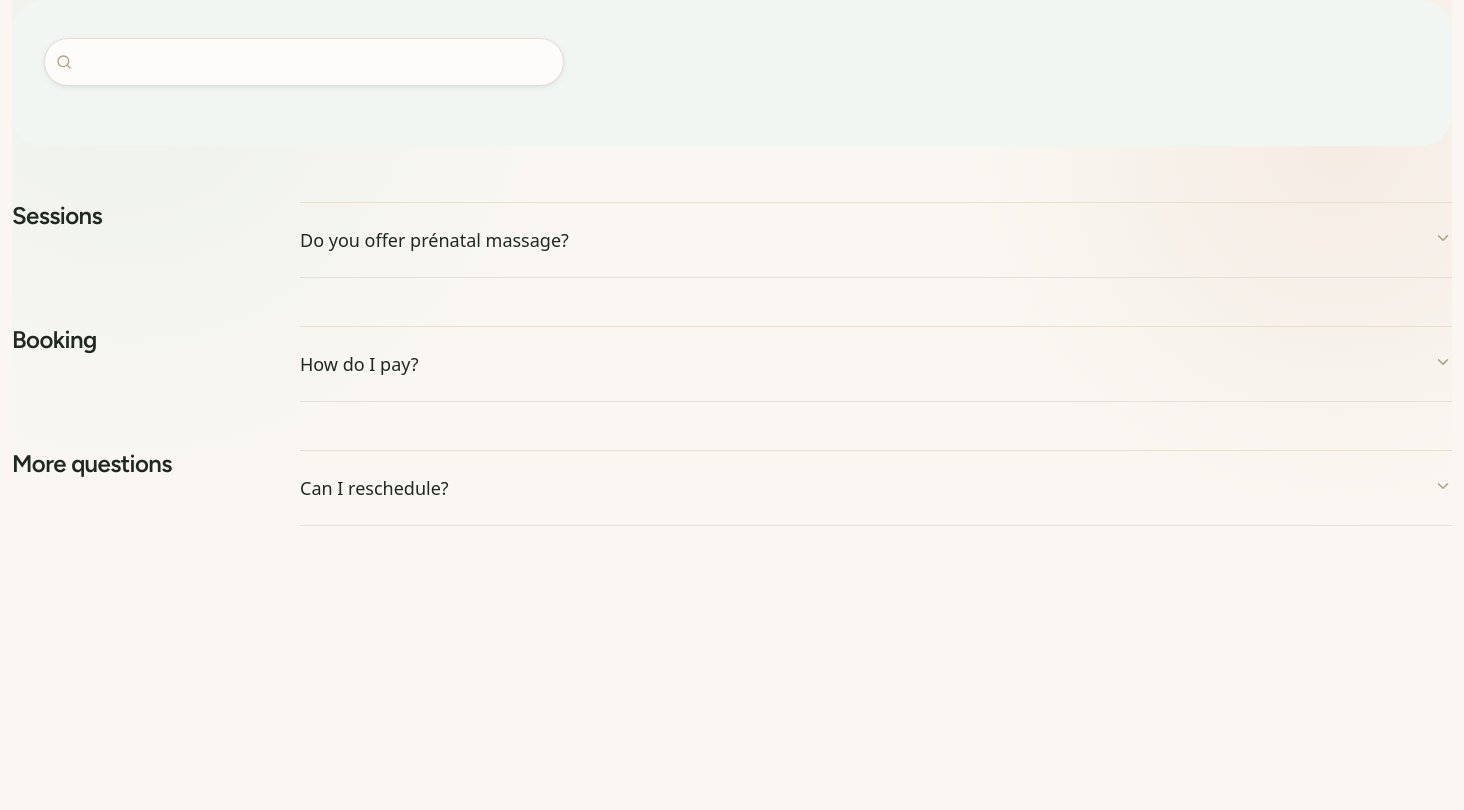
Test: FAQSearch › opens one answer at a time
What coordinates should you click on to do the following:
click the button "How do I pay?"
I would click on:
 (359, 364)
Its box is [300,327,1452,401].
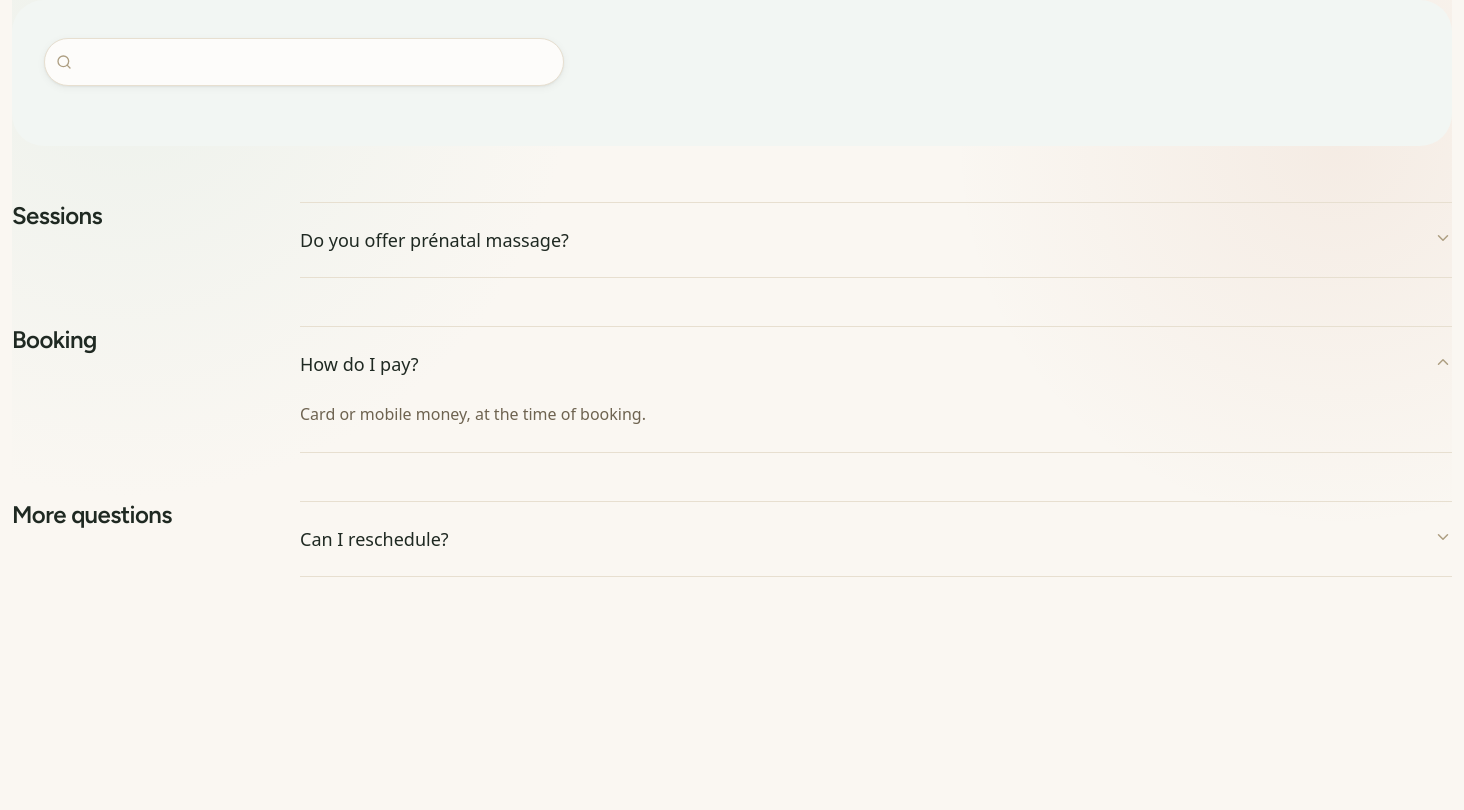
What coordinates should you click on to do the following:
click the button "Can I reschedule?"
I would click on:
 (374, 539)
Its box is [300,502,1452,576].
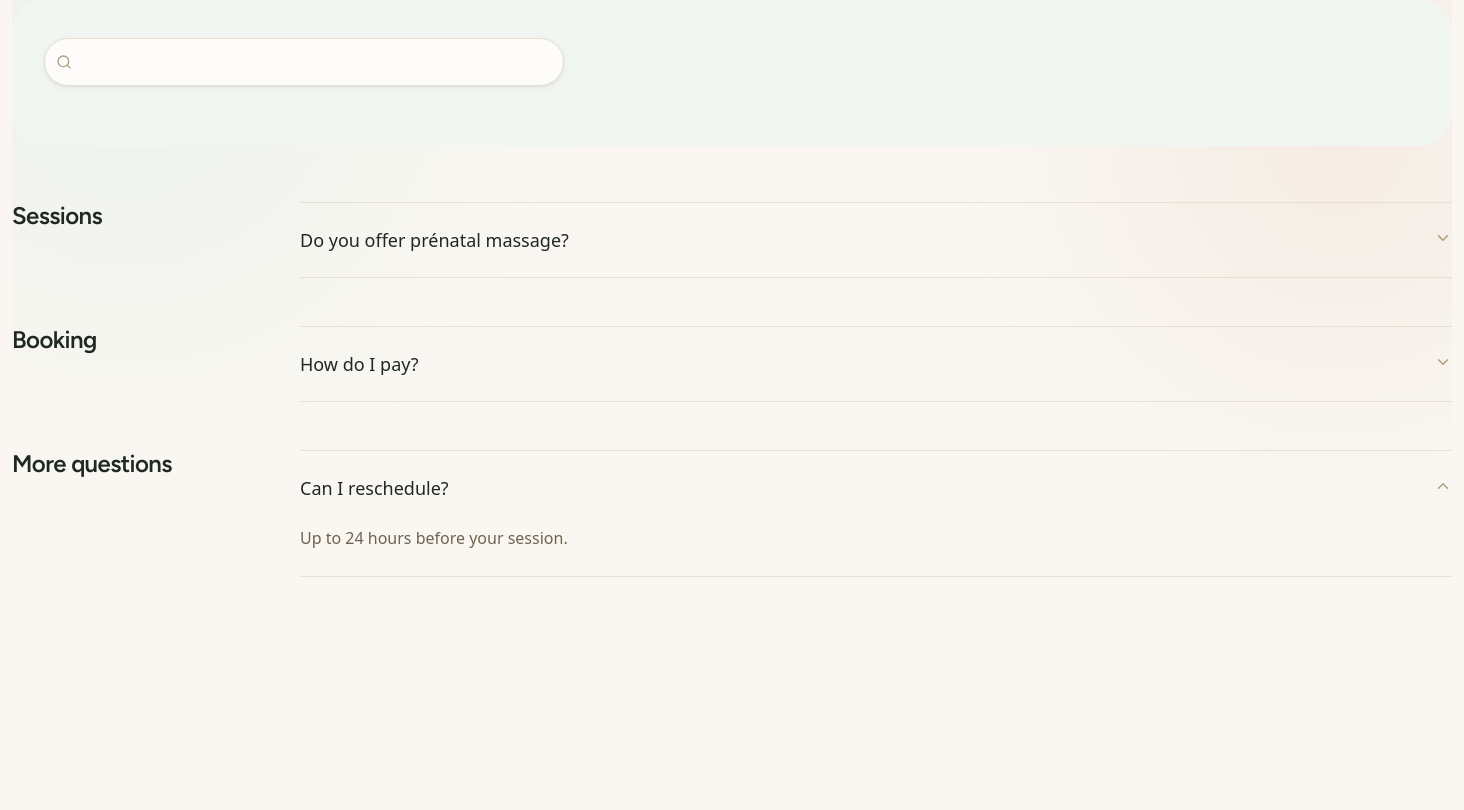
Expected: the button "How do I pay?" is collapsed, [300,327,1452,401]
Expected: the button "Can I reschedule?" is expanded, [300,451,1452,525]
